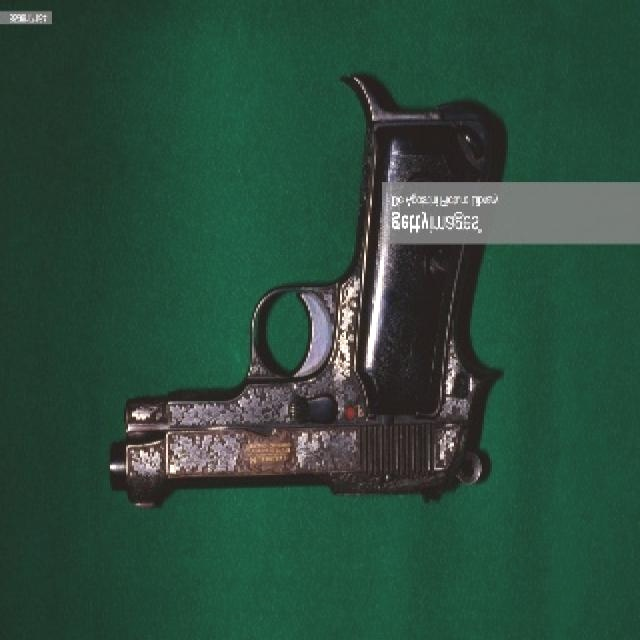gun: (100, 92, 512, 515)
